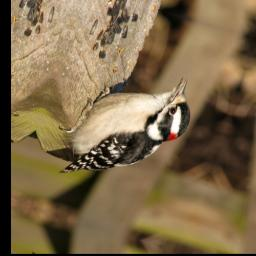Woodpecker: (43, 46, 203, 205)
